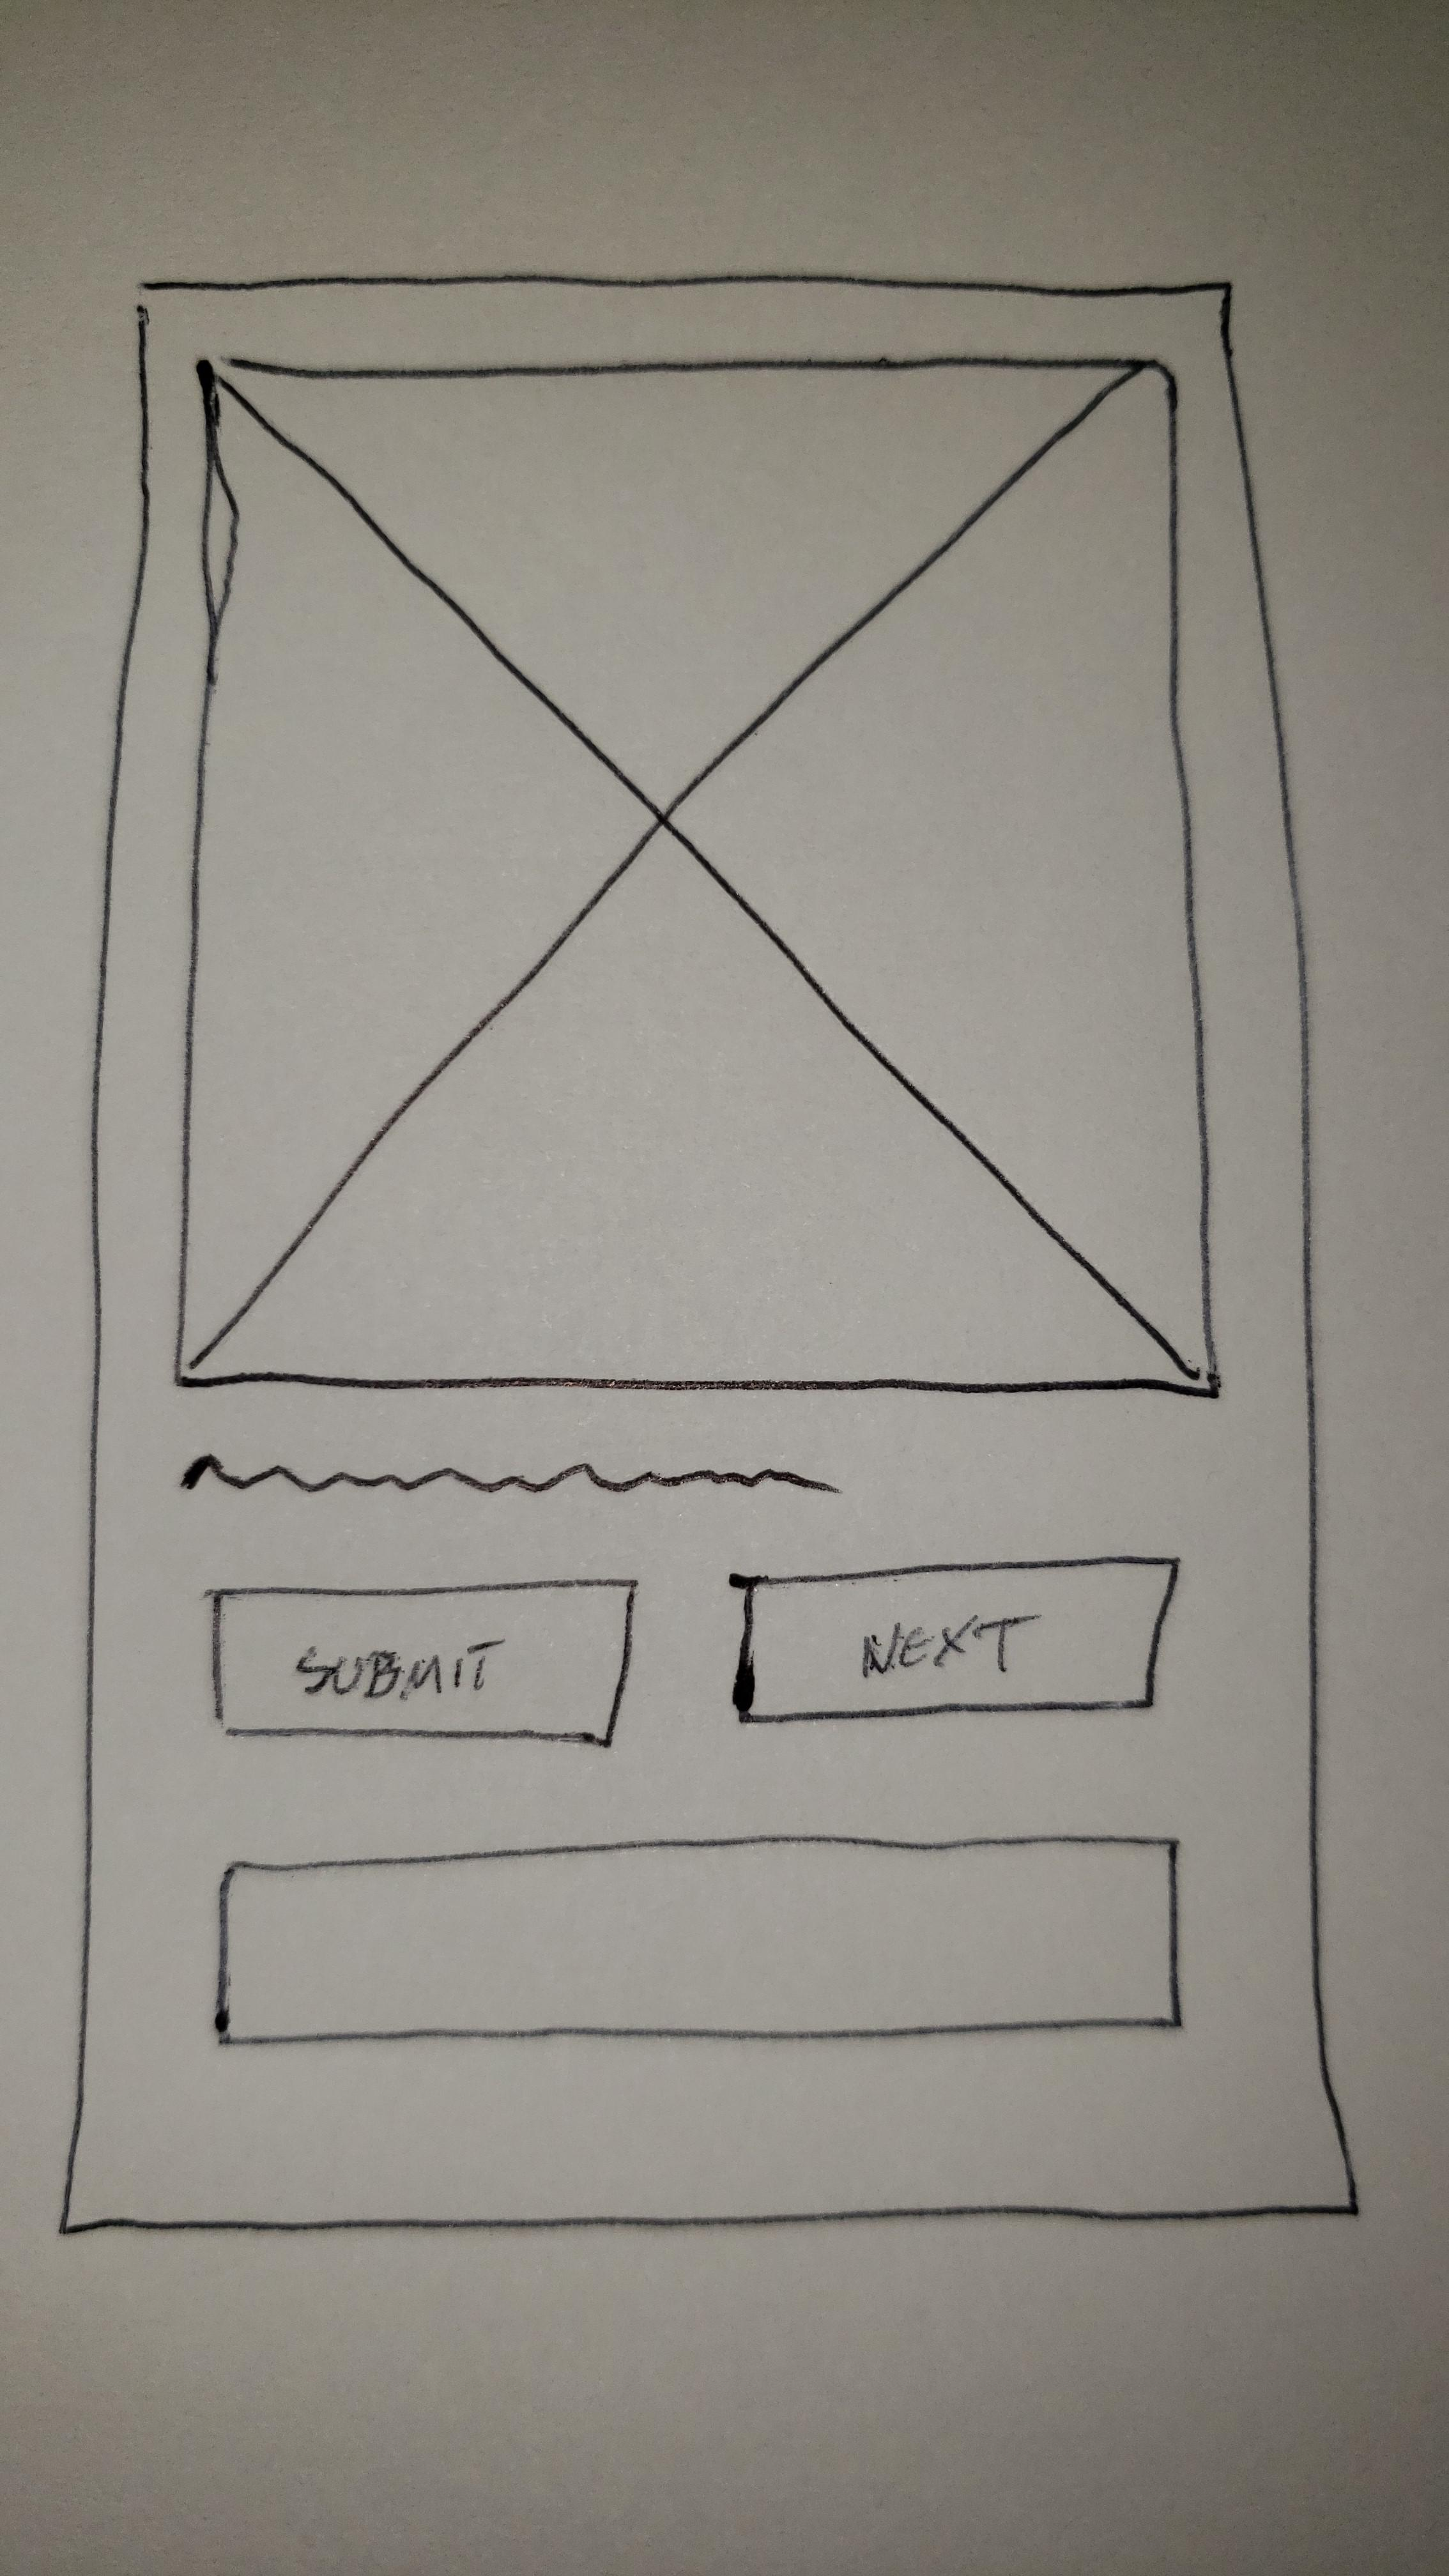Button: (736, 1555, 1177, 1720), (212, 1578, 637, 1744)
Image: (173, 359, 1217, 1396)
Label: (180, 1454, 840, 1497)
Screen: (60, 265, 1357, 2235)
TextBox: (221, 1836, 1178, 2043)
